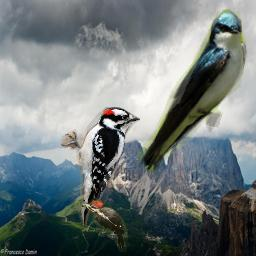Swallow: (137, 9, 248, 177)
Woodpecker: (61, 107, 140, 226), (80, 198, 130, 252)
